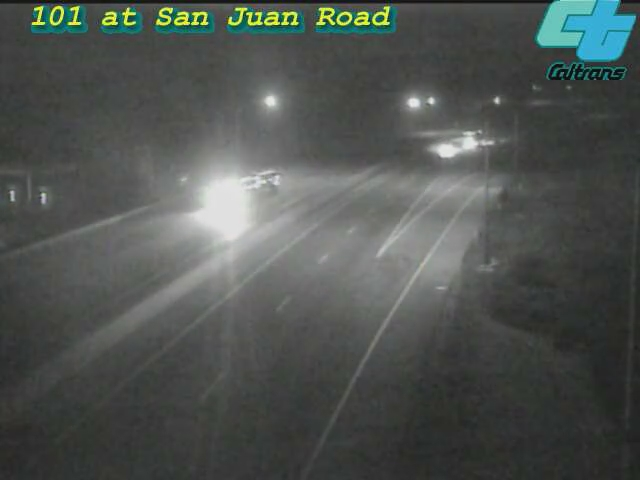vehicle: (193, 150, 273, 230), (448, 115, 498, 165), (420, 125, 470, 175)
